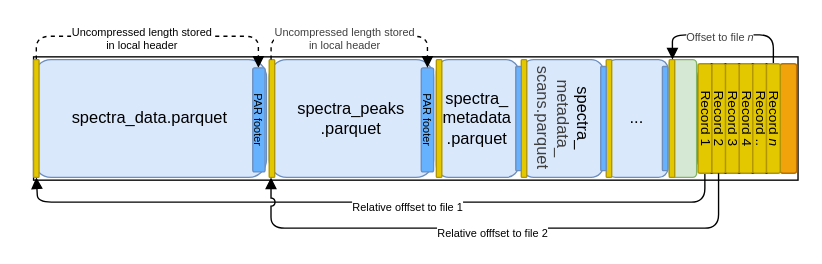
This 822x264 diagram has some shape labels left out. The shapes that lost their labels are listed below. From the top down, each one's centre as x and y in pixels, then its label:
At pixel 682 117: "mzpeak_index.json".
At pixel 788 117: "EOCD".
